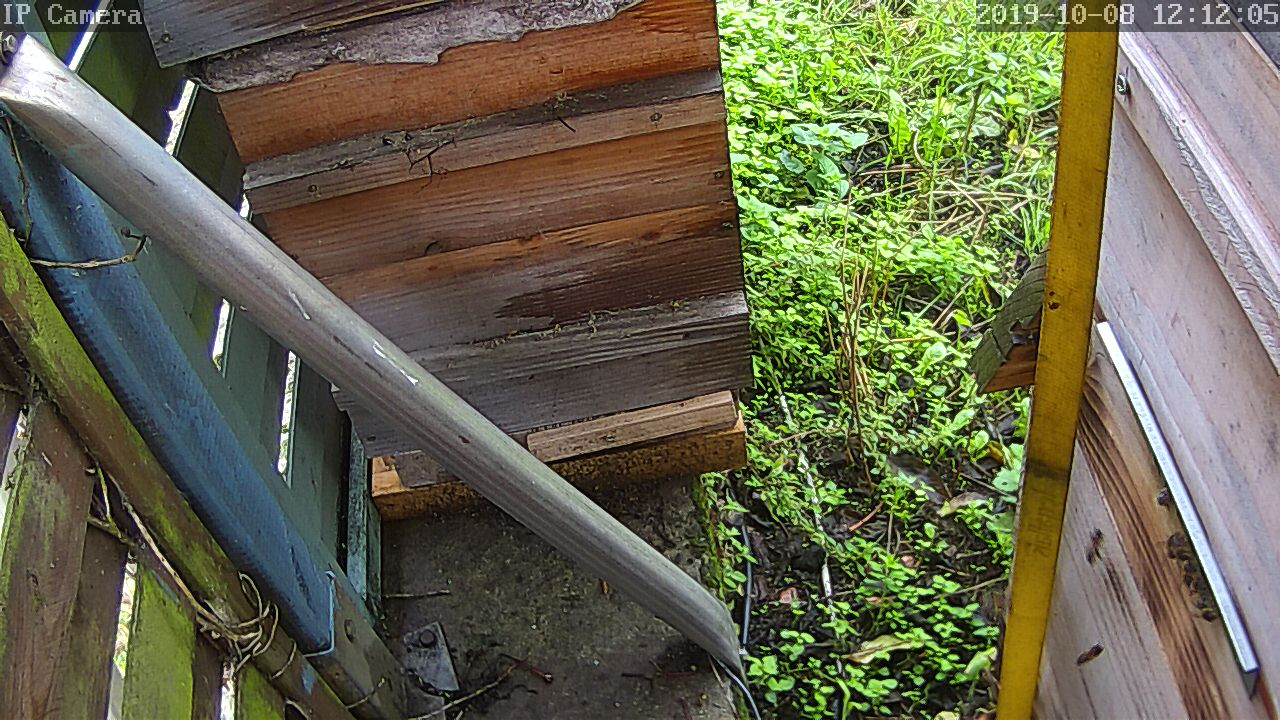bee: (1176, 580, 1215, 623), (1159, 528, 1196, 566), (1085, 528, 1109, 567), (1069, 640, 1105, 665), (1149, 482, 1173, 510)
